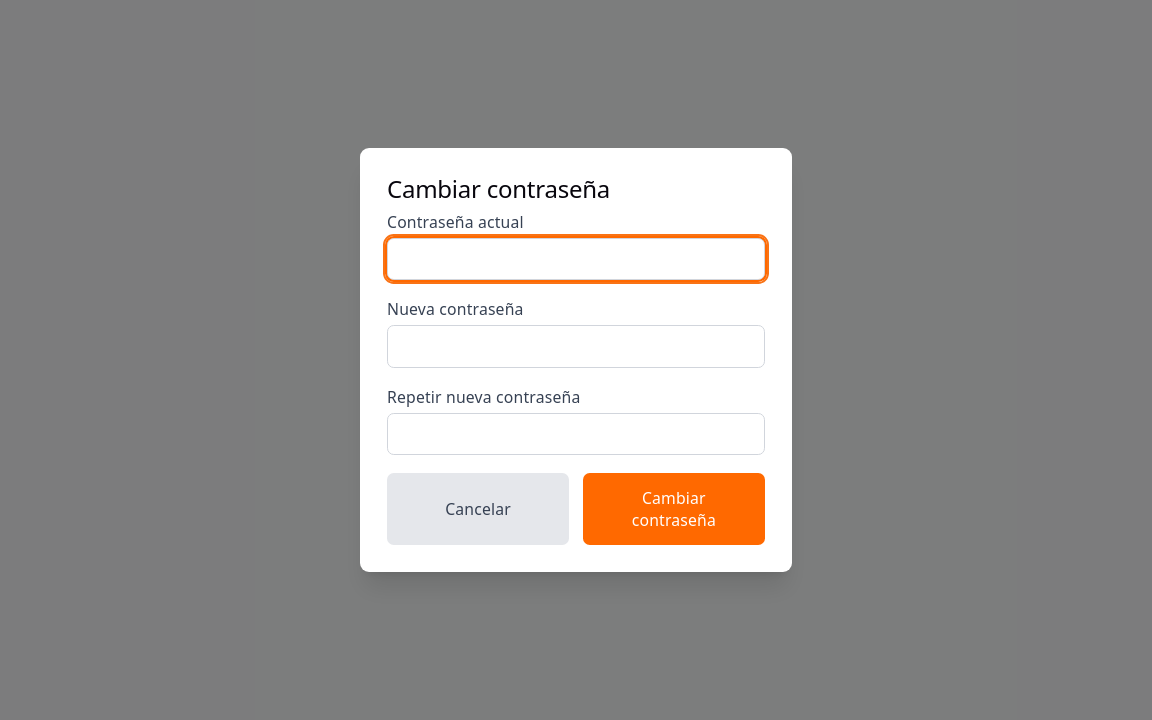
Scenario: ChangePasswordDialog › rejects a new password equal to the current one
The width and height of the screenshot is (1152, 720).
In the password field labelled "Contraseña actual": (576, 259) x1=387 y1=238 x2=765 y2=280, type "same-secret"
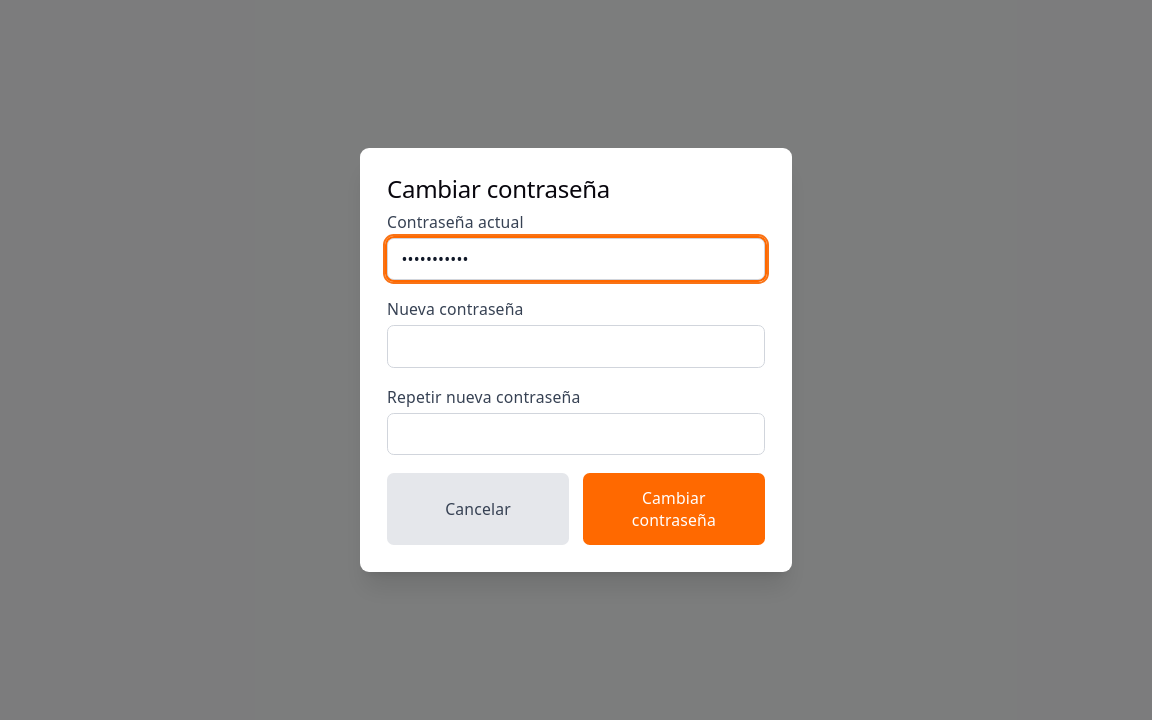
In the password field labelled "Nueva contraseña": (576, 347) x1=387 y1=325 x2=765 y2=368, type "same-secret"
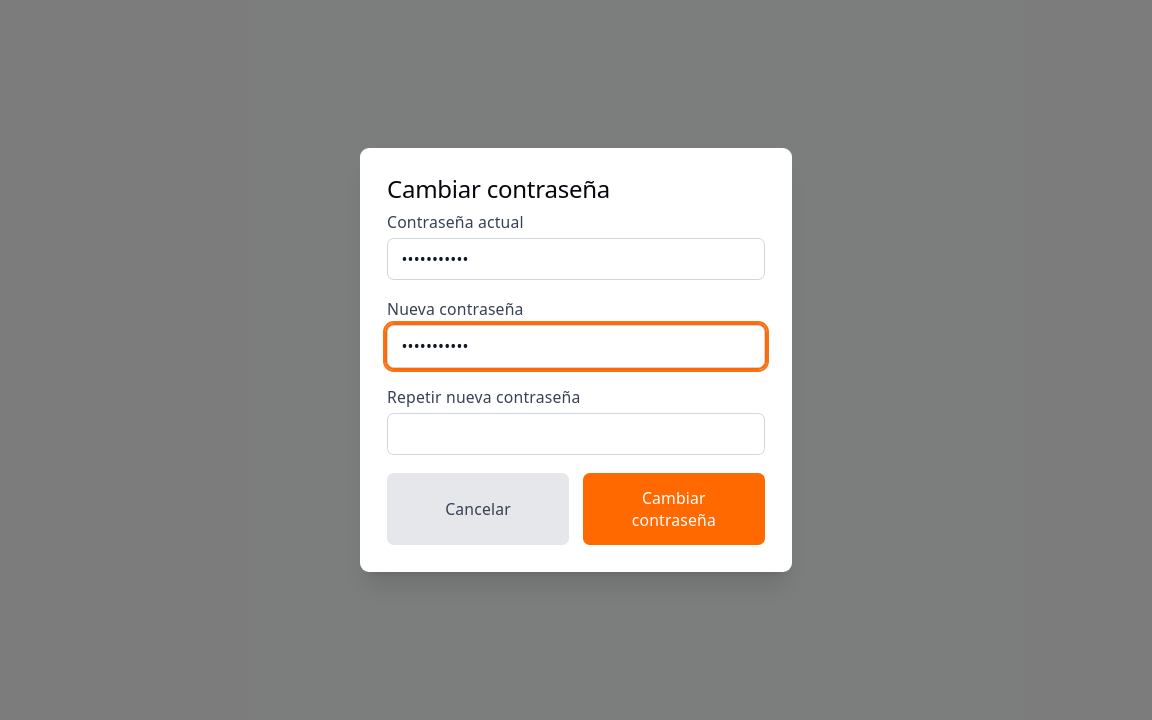
In the password field labelled "Repetir nueva contraseña": (576, 434) x1=387 y1=413 x2=765 y2=455, type "same-secret"
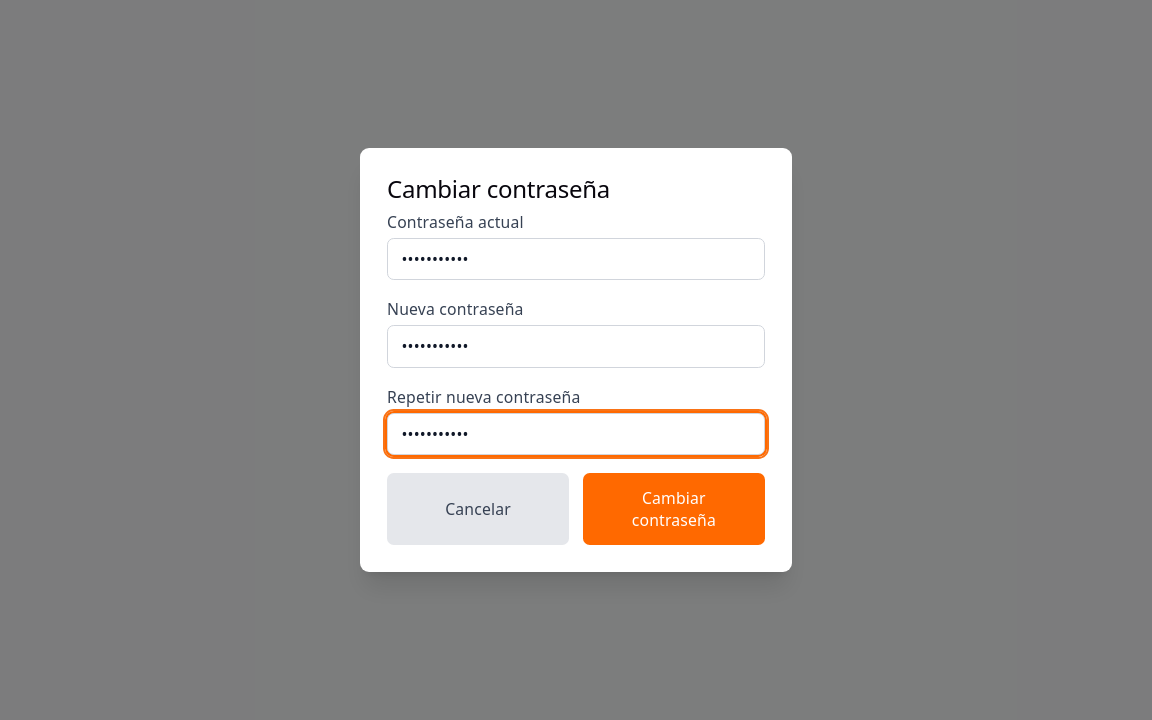
Click the button "Cambiar contraseña": (674, 509) x1=583 y1=473 x2=765 y2=545
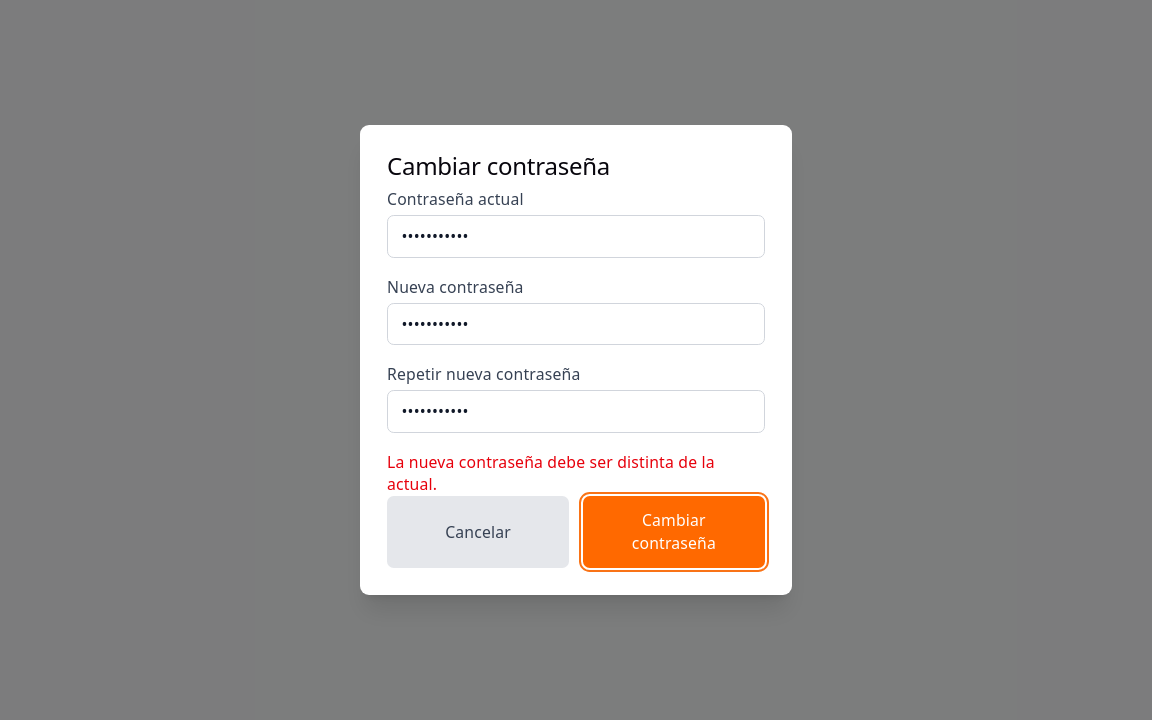
Result: the message reads "La nueva contraseña debe ser distinta de la actual." at x1=387 y1=451 x2=715 y2=495
